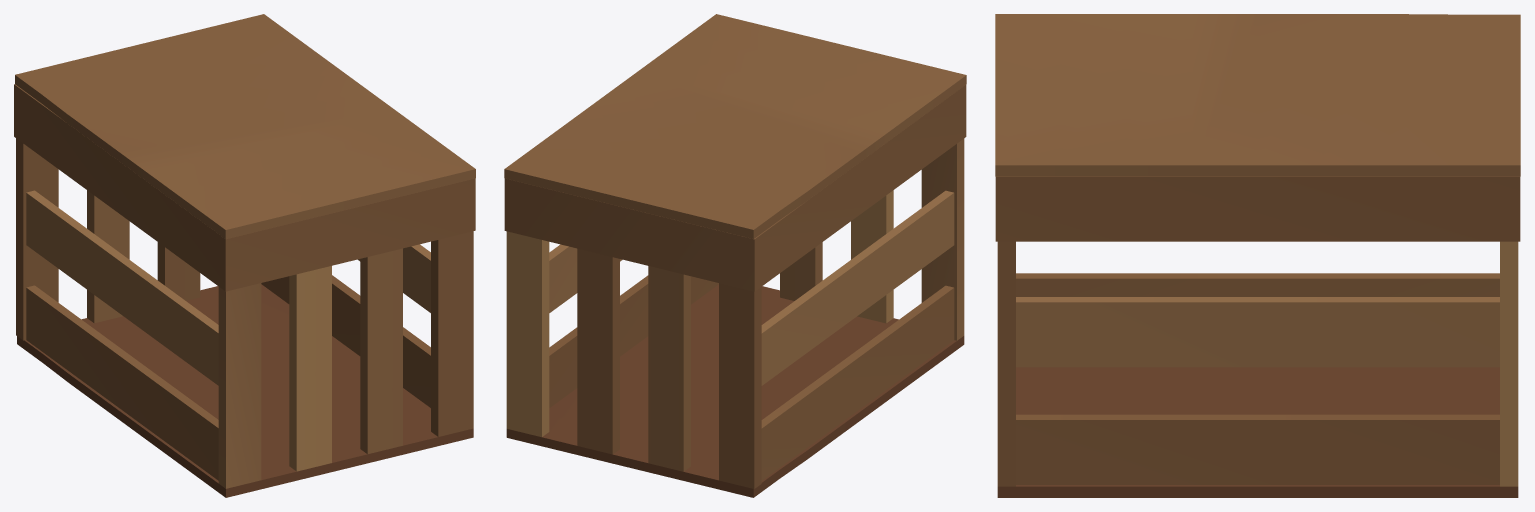
Rendered from Small Light Crate Closed.fbx.
3 renders of one model, left to right at view 1: azimuth 30°, elevation 25°; view 2: azimuth 150°, elevation 25°; view 3: azimuth 270°, elevation 25°, orthographic. The views are drawn at different scales.
Parts seen in each view (by area): view 1: Small Light Crate Closed; view 2: Small Light Crate Closed; view 3: Small Light Crate Closed.
Part boxes in pixels (x1=…): Small Light Crate Closed: x1=14, y1=14, x2=475, y2=497; Small Light Crate Closed: x1=504, y1=14, x2=966, y2=497; Small Light Crate Closed: x1=995, y1=14, x2=1520, y2=497.
Bounding box in the file's own units: 143 × 204 × 139.
1 material, 1 textured.
